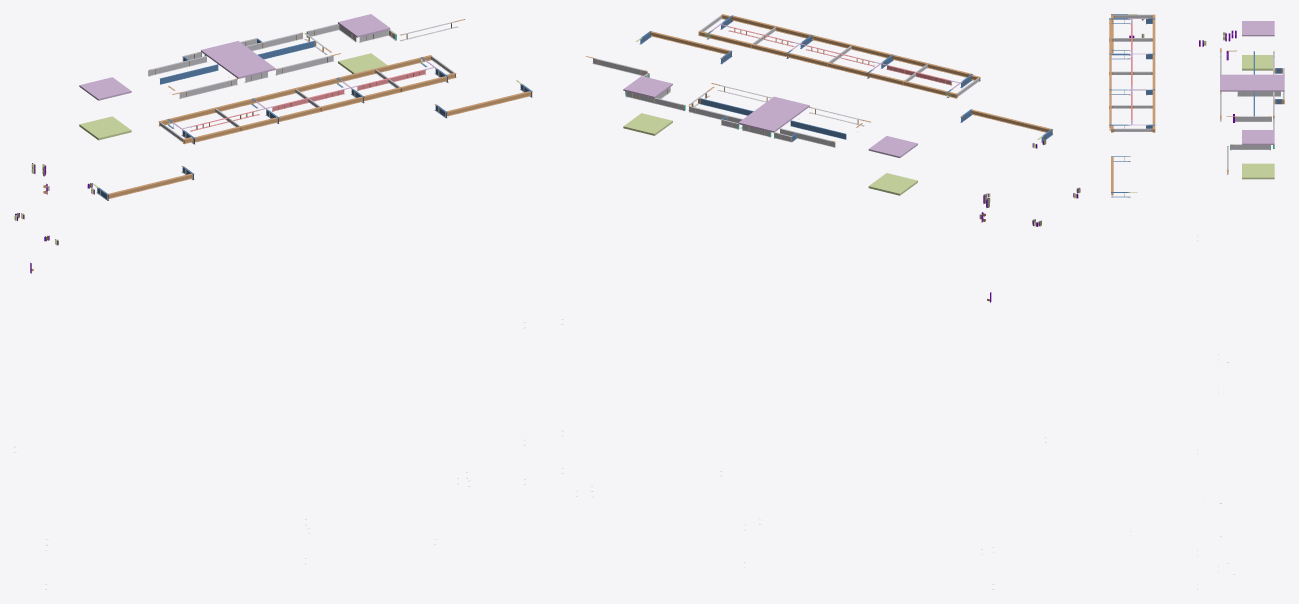
3 renders of one model, left to right at view 1: azimuth 30°, elevation 25°; view 2: azimuth 150°, elevation 25°; view 3: azimuth 270°, elevation 25°, orthographic. The views are drawn at different scales.
Parts seen in each view (by area): view 1: SLAB[1WcoDK000hjJ4sCZ0tE3ap], SLAB[1WcoDK000hfZ4sCZ0tE3an], SLAB[1WcoDK000hiJ4sCZ0tE3ap], SLAB[1WcoDK000hhJ4sCZ0tE3ao]; view 2: SLAB[1WcoDK000hjJ4sCZ0tE3ap], SLAB[1WcoDK000hgJ4sCZ0tE3ao], SLAB[1WcoDK000hfZ4sCZ0tE3an], SLAB[1WcoDK000hiJ4sCZ0tE3ap], SLAB[1WcoDK000hhJ4sCZ0tE3ao]; view 3: SLAB[1WcoDK000hjJ4sCZ0tE3ap], SLAB[1WcoDK000hgJ4sCZ0tE3ao], SLAB[1WcoDK000hhJ4sCZ0tE3ao], SLAB[1WcoDK000hiJ4sCZ0tE3ap], SLAB[1WcoDK000hfZ4sCZ0tE3an], 18-8GL[1WcoDK000Xx34sCZ0tE3Ss].
Boxes of the visible parts, box(x1,y1,x2,y2) form: SLAB[1WcoDK000hjJ4sCZ0tE3ap]: box(201, 41, 275, 78); SLAB[1WcoDK000hfZ4sCZ0tE3an]: box(79, 116, 131, 140); SLAB[1WcoDK000hiJ4sCZ0tE3ap]: box(338, 14, 390, 37); SLAB[1WcoDK000hhJ4sCZ0tE3ao]: box(79, 77, 131, 100); SLAB[1WcoDK000hjJ4sCZ0tE3ap]: box(738, 96, 809, 132); SLAB[1WcoDK000hgJ4sCZ0tE3ao]: box(623, 113, 672, 135); SLAB[1WcoDK000hfZ4sCZ0tE3an]: box(868, 173, 917, 195); SLAB[1WcoDK000hiJ4sCZ0tE3ap]: box(623, 76, 672, 98); SLAB[1WcoDK000hhJ4sCZ0tE3ao]: box(868, 136, 917, 157); SLAB[1WcoDK000hjJ4sCZ0tE3ap]: box(1220, 74, 1284, 91); SLAB[1WcoDK000hgJ4sCZ0tE3ao]: box(1242, 163, 1274, 179); SLAB[1WcoDK000hhJ4sCZ0tE3ao]: box(1242, 21, 1274, 36); SLAB[1WcoDK000hiJ4sCZ0tE3ap]: box(1242, 130, 1274, 144); SLAB[1WcoDK000hfZ4sCZ0tE3an]: box(1242, 55, 1272, 70); 18-8GL[1WcoDK000Xx34sCZ0tE3Ss]: box(1237, 91, 1280, 96).
Size of the model in its own units: 39.75 by 38.19 by 13.69.
